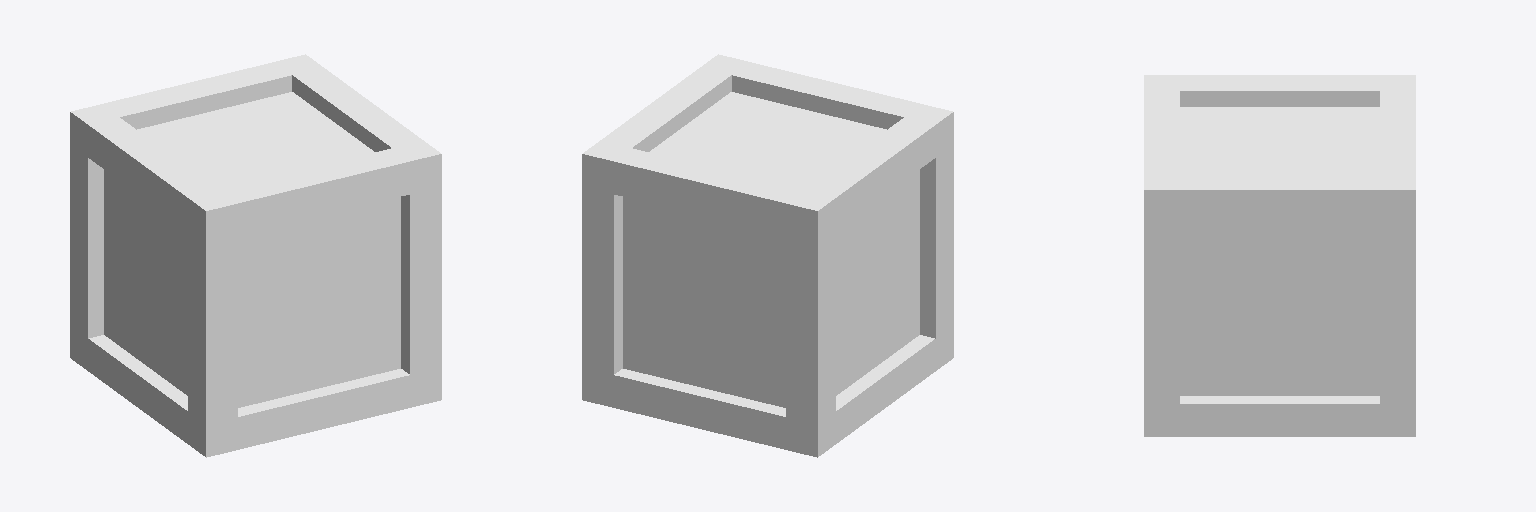
Rendered from sklad-0.obj.
3 renders of one model, left to right at view 1: azimuth 30°, elevation 25°; view 2: azimuth 150°, elevation 25°; view 3: azimuth 270°, elevation 25°, orthographic.
Visible parts, largest first — view 1: object 1; view 2: object 1; view 3: object 1.
Part boxes in pixels (left/top/right/bottom): object 1: left=70, top=54, right=441, bottom=457; object 1: left=582, top=54, right=953, bottom=457; object 1: left=1144, top=75, right=1415, bottom=436.
Bounding box in the file's own units: 1.5 × 1.5 × 1.5.